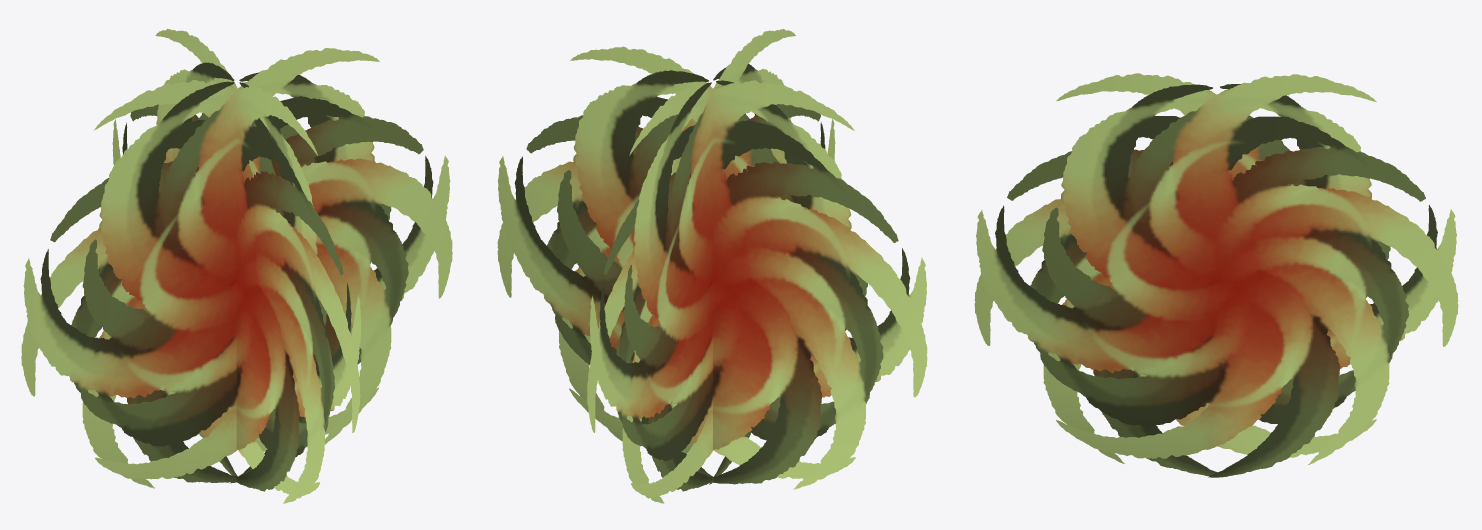
File: painted-weed-062.glb
3 renders of one model, left to right at view 1: azimuth 30°, elevation 25°; view 2: azimuth 150°, elevation 25°; view 3: azimuth 270°, elevation 25°, orthographic. The views are drawn at different scales.
Bounding box in the file's own units: 7.5 × 7.1 × 7.5.
1 material, 1 textured.
